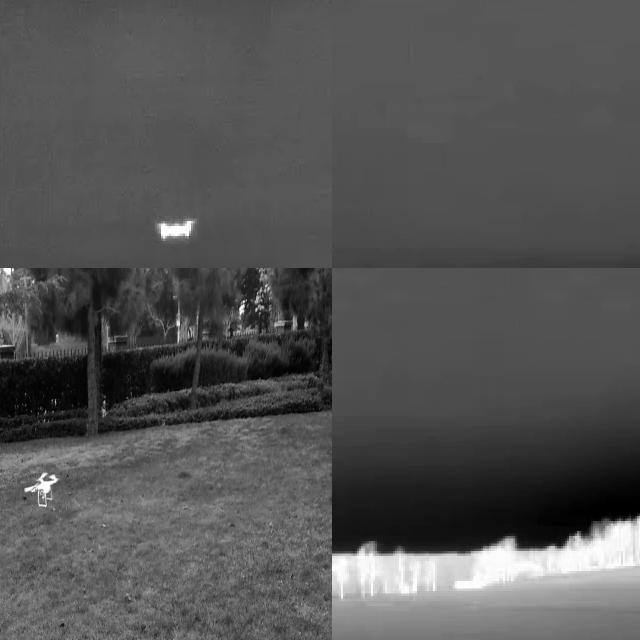1: (144, 214, 204, 248)
drone: (24, 463, 61, 508)
